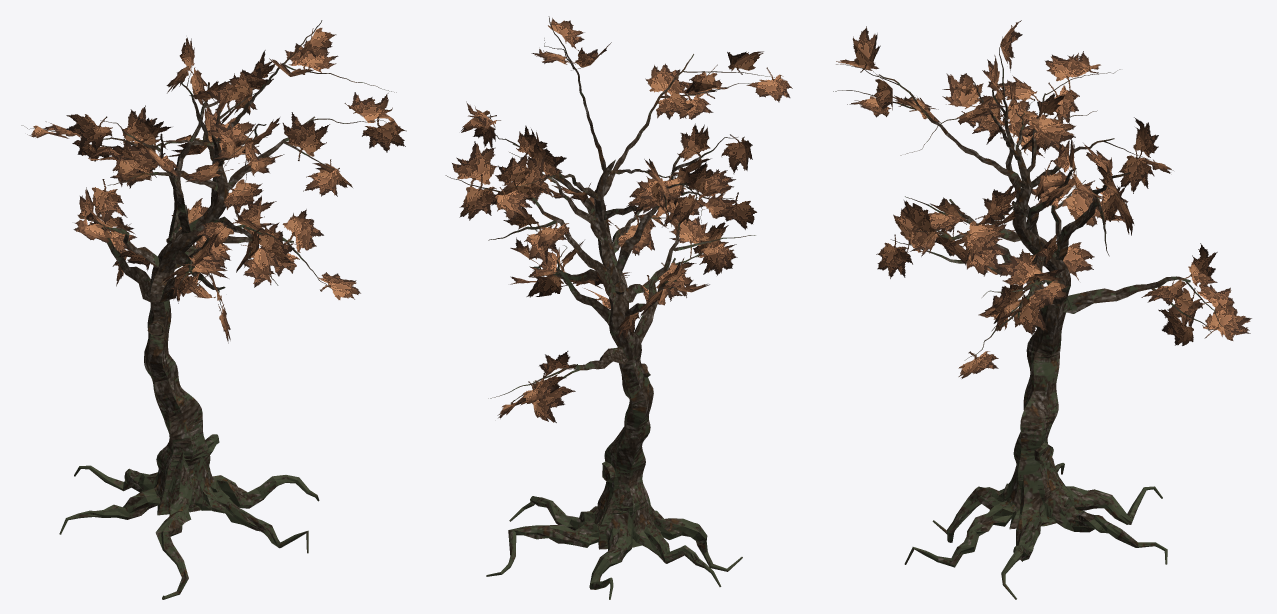
Rendered from TreeLeaf_02.fbx.
3 renders of one model, left to right at view 1: azimuth 30°, elevation 25°; view 2: azimuth 150°, elevation 25°; view 3: azimuth 270°, elevation 25°, orthographic. The views are drawn at different scales.
Visible parts, largest first — view 1: TreeLeaf_02; view 2: TreeLeaf_02; view 3: TreeLeaf_02.
Boxes of the visible parts, x1,y1,x2,y2 form: TreeLeaf_02: [21, 20, 406, 599]; TreeLeaf_02: [445, 16, 792, 599]; TreeLeaf_02: [833, 20, 1251, 599].
Size of the model in its own units: 392 by 581 by 423.
Materials: 2 (2 with a texture image).
